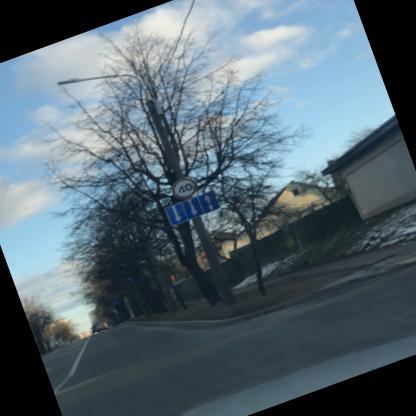speedlimit: (166, 175, 196, 201)
